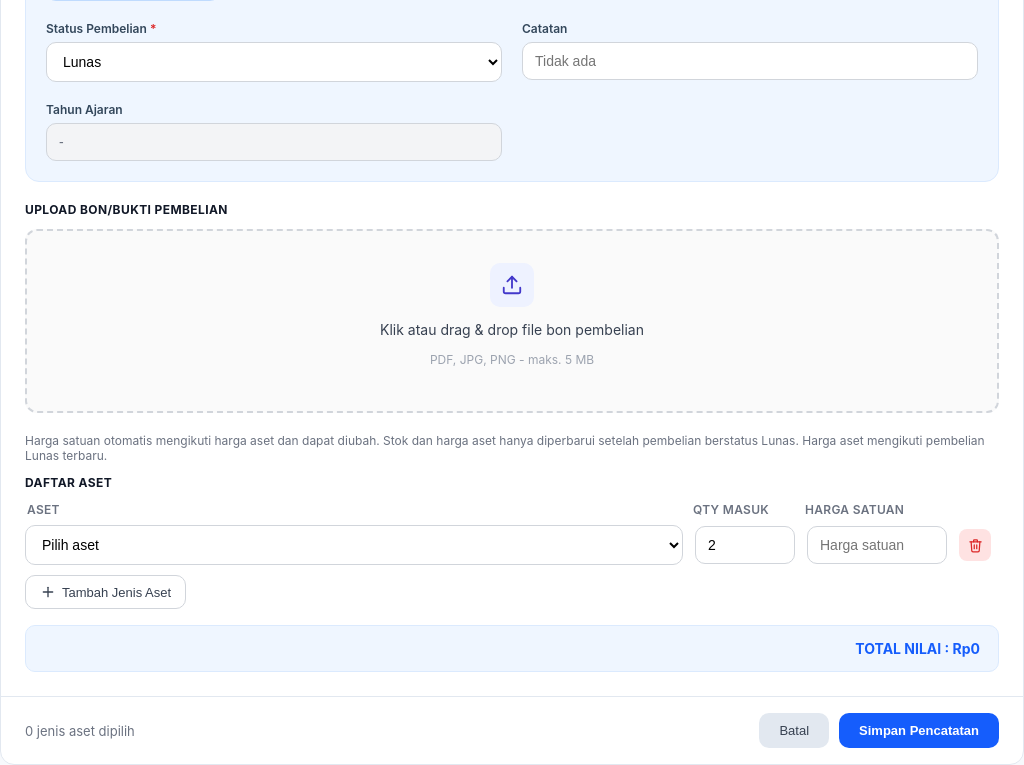
Test: pilih aset autofill harga, edit harga menghitung total, ganti aset mengambil harga baru
(page scrolled)
Select "Pin" in the dropdown below "Qty Masuk" at (354, 545), box [25,525,683,565]
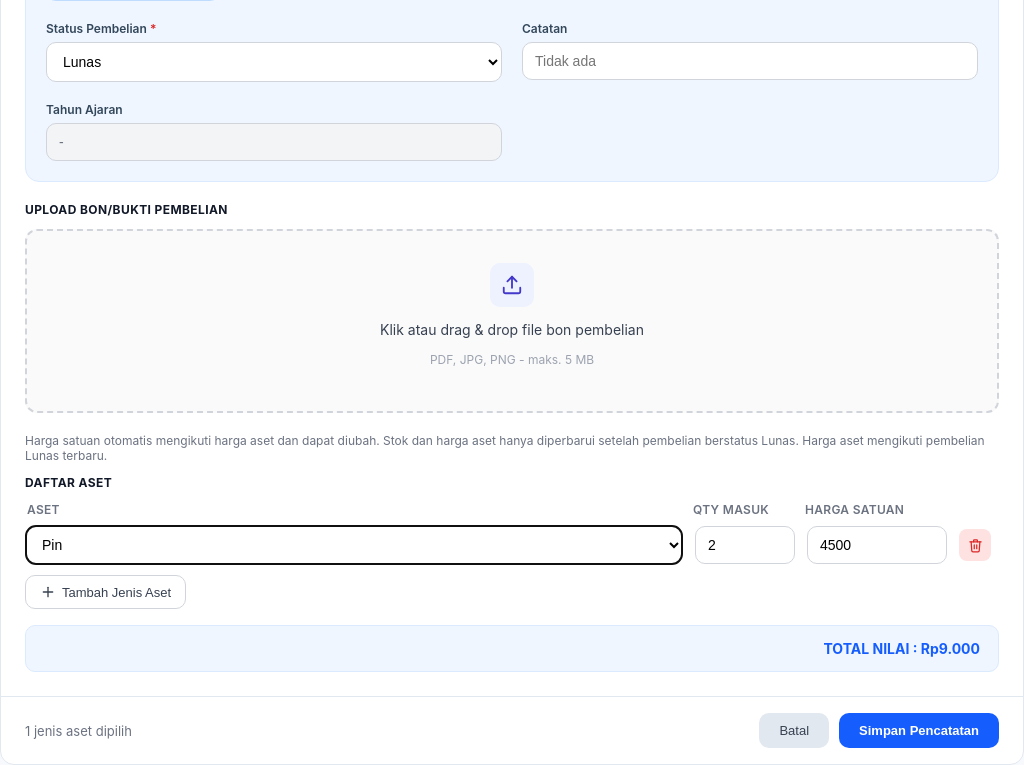
Check: the number field named "Harga satuan aset 1" holds "4500"
Check: the text "TOTAL NILAI : Rp9.000" is shown, box [824,640,980,657]
Replace the text in the number field named "Harga satuan aset 1" with "5000" at (877, 545), box [807,526,947,564]
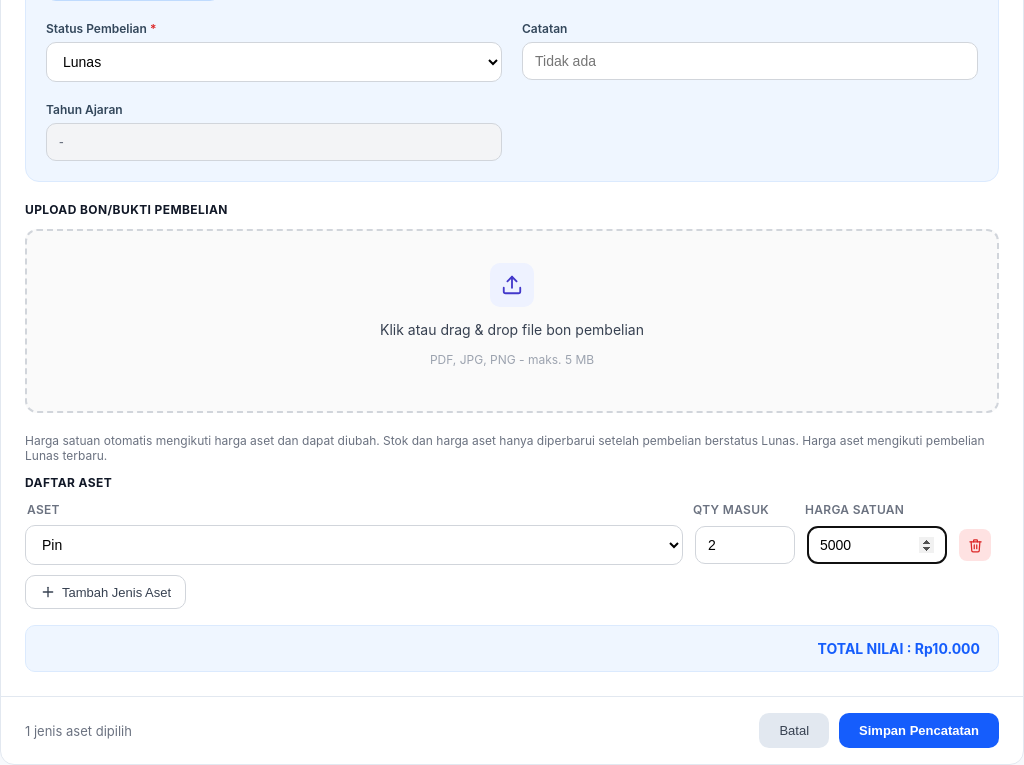
Check: the text "TOTAL NILAI : Rp10.000" is shown, box [818,640,980,657]
Select "Tas" in the dropdown below "Qty Masuk" at (354, 545), box [25,525,683,565]
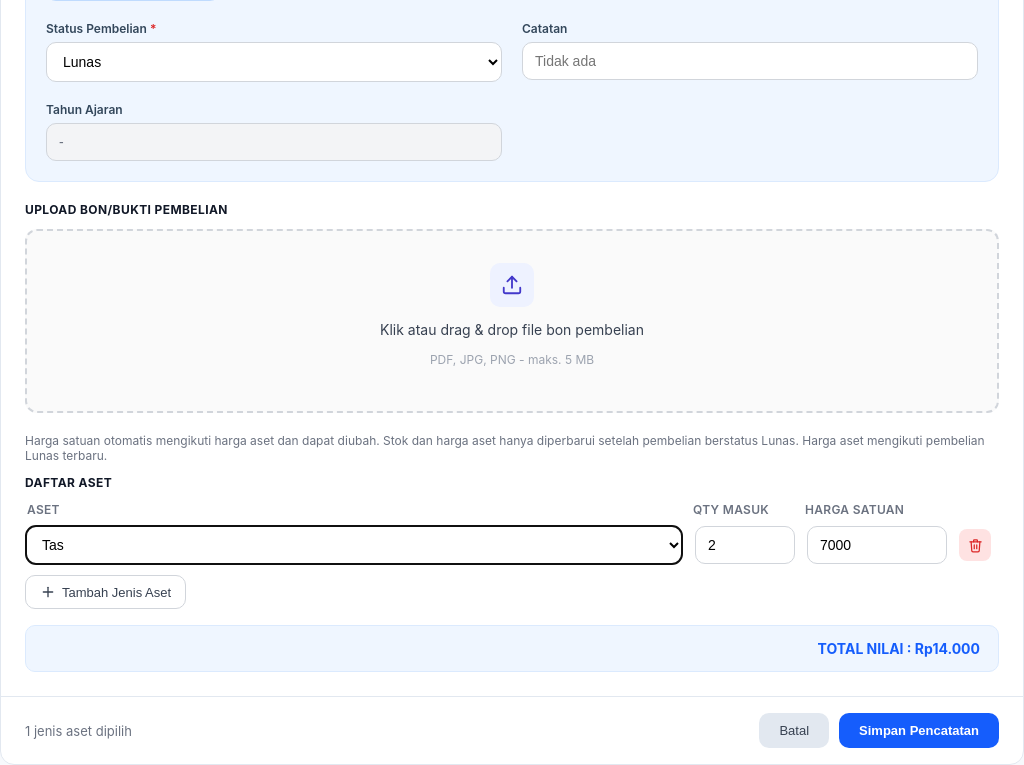
Check: the number field named "Harga satuan aset 1" holds "7000", box [807,526,947,564]
